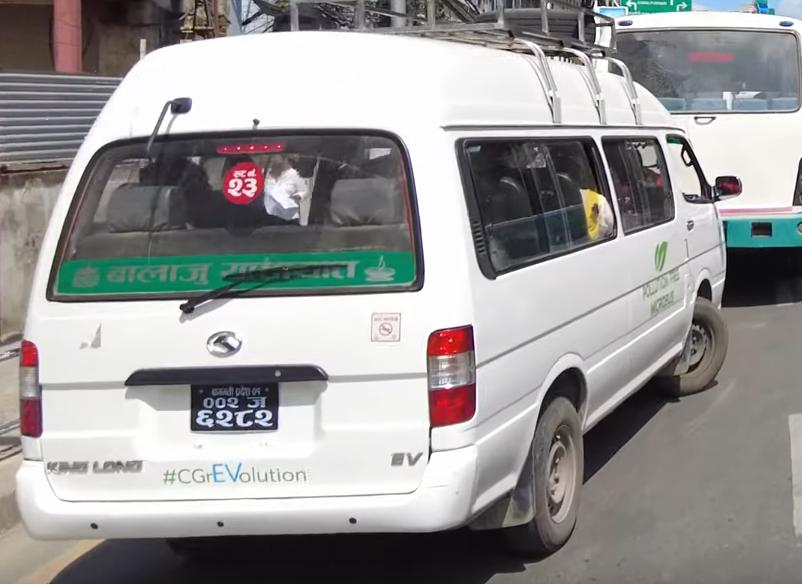bus: (592, 10, 802, 270)
micro_bus: (17, 26, 742, 561)
